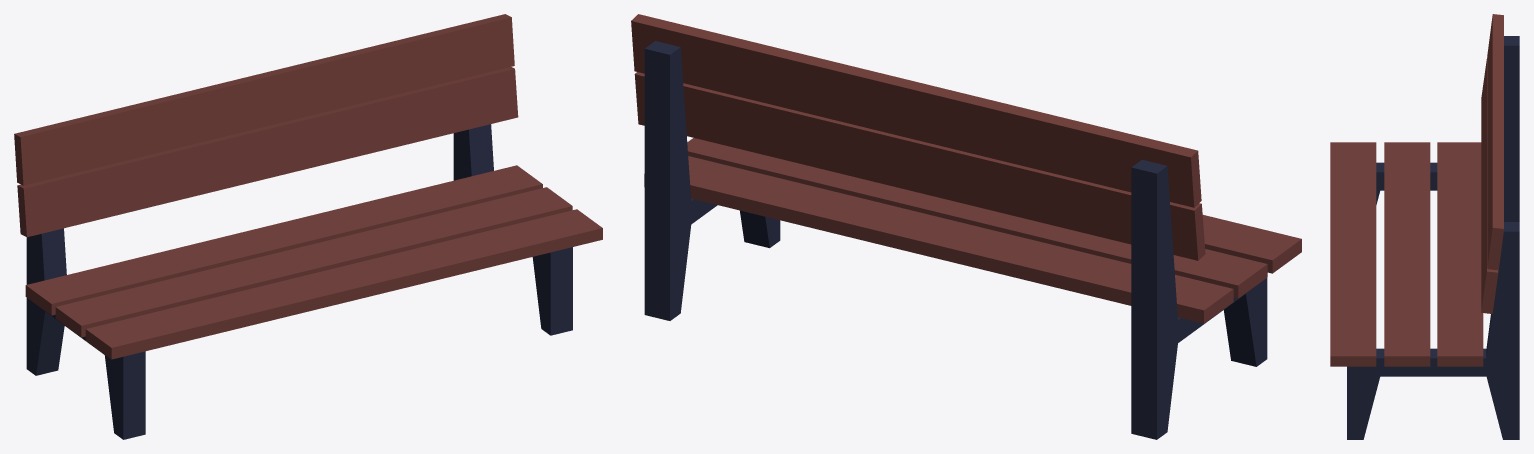
File: bench.obj
3 views of the same model, side by side, from view 1: azimuth 30°, elevation 25°; view 2: azimuth 150°, elevation 25°; view 3: azimuth 270°, elevation 25° (orthographic). The views are drawn at different scales.
Parts seen in each view (by area): view 1: Cube; view 2: Cube; view 3: Cube.
Part boxes in pixels (x1,y1,x2,y2): Cube: (14,14,602,439); Cube: (631,14,1301,439); Cube: (1330,14,1519,439).
Bounding box in the file's own units: 4.4 × 2.12 × 1.65.
